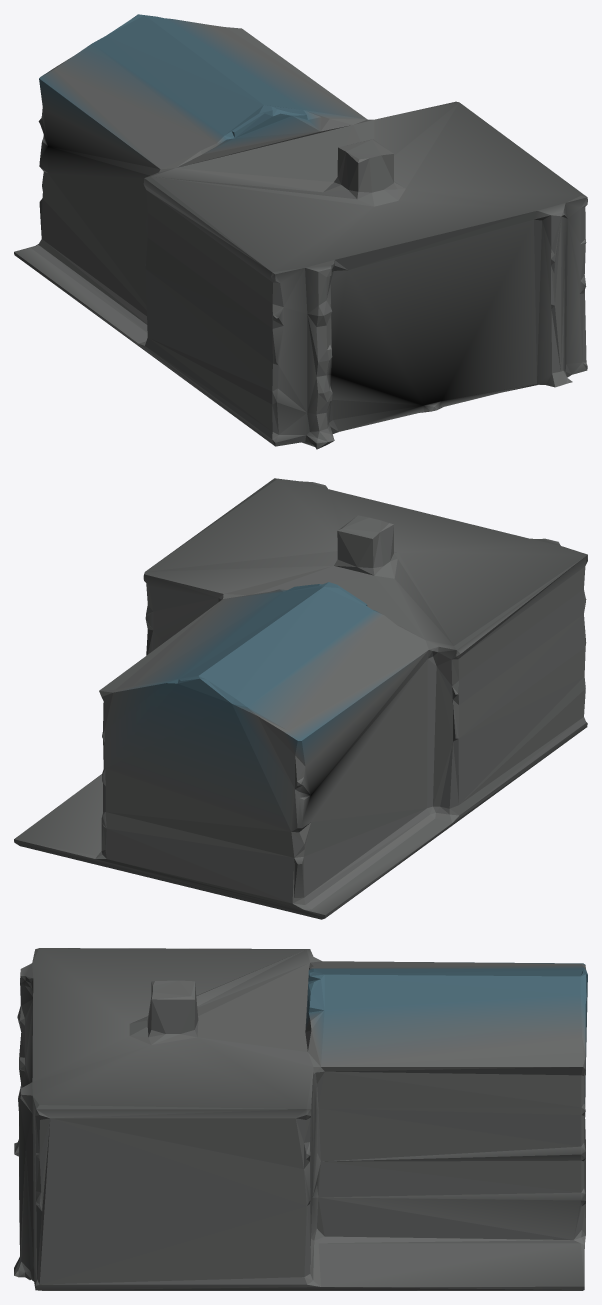
File: Apartment Buildings(4).glb
3 renders of one model, top to bottom at view 1: azimuth 30°, elevation 25°; view 2: azimuth 150°, elevation 25°; view 3: azimuth 270°, elevation 25°, orthographic. The views are drawn at different scales.
Parts seen in each view (by area): view 1: Root; view 2: Root; view 3: Root.
Boxes of the visible parts, box(x1,y1,x2,y2) form: Root: box(14, 14, 587, 449); Root: box(14, 478, 587, 919); Root: box(14, 948, 587, 1290).
Size of the model in its own units: 22.04 by 14.24 by 32.91.
